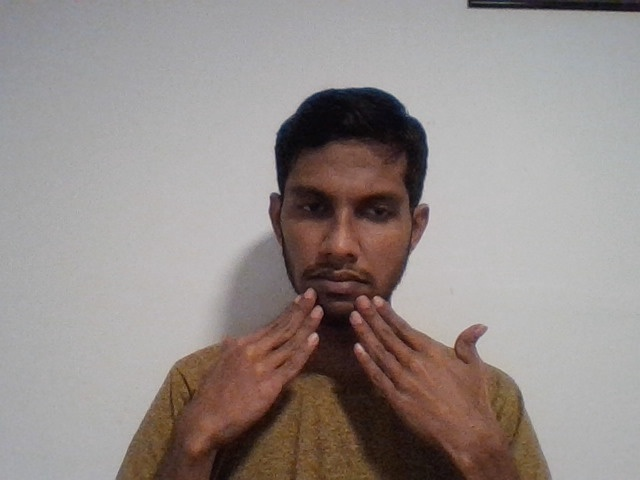thanks: (163, 285, 535, 462)
